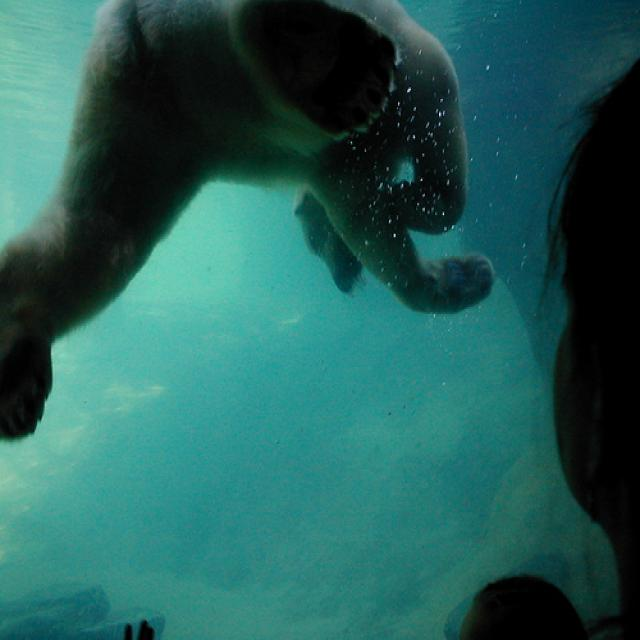Bear: (0, 0, 504, 457)
